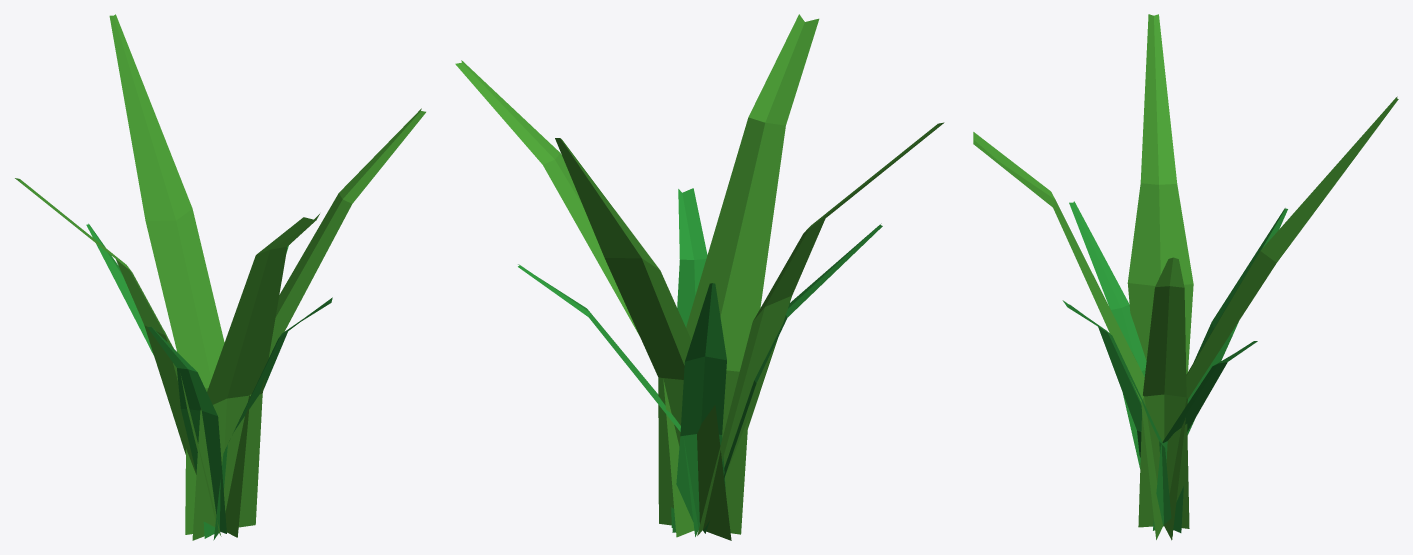
File: zole_ilgesne.glb
3 views of the same model, side by side, from view 1: azimuth 30°, elevation 25°; view 2: azimuth 150°, elevation 25°; view 3: azimuth 270°, elevation 25° (orthographic). The views are drawn at different scales.
Visible parts, largest first — view 1: Zole.002; view 2: Zole.002; view 3: Zole.002.
Boxes of the visible parts, left/top/right/bottom form: Zole.002: left=15, top=14, right=425, bottom=540; Zole.002: left=455, top=14, right=944, bottom=540; Zole.002: left=973, top=14, right=1398, bottom=540.
Size of the model in its own units: 0.5826 by 0.5711 by 0.5094.
